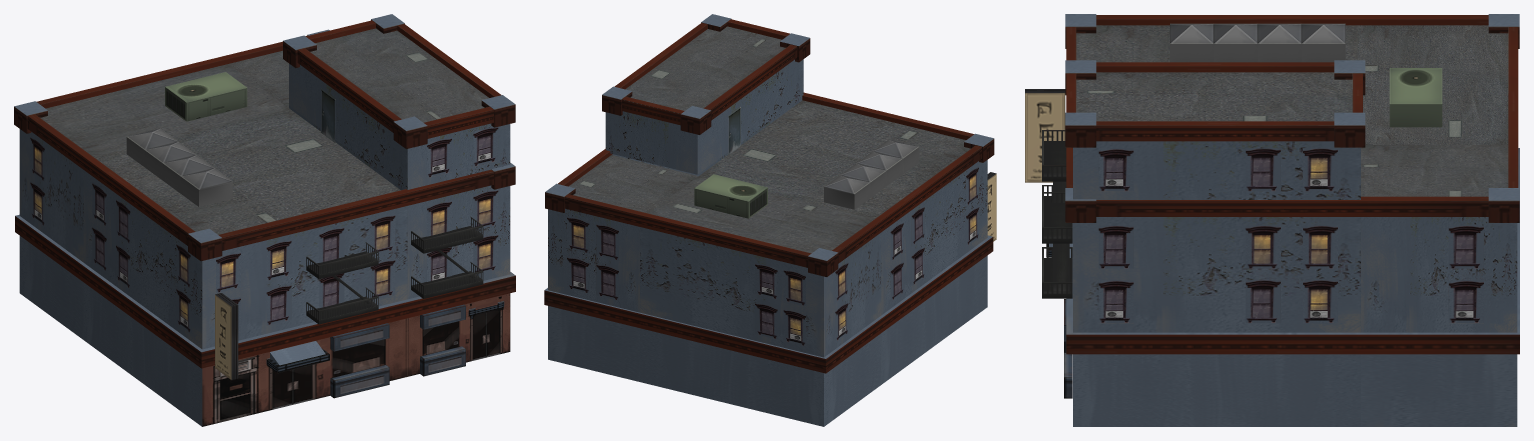
3 views of the same model, side by side, from view 1: azimuth 30°, elevation 25°; view 2: azimuth 150°, elevation 25°; view 3: azimuth 270°, elevation 25° (orthographic). The views are drawn at different scales.
Parts seen in each view (by area): view 1: Filler_Apartments2_FillerBuildings1_0.001; view 2: Filler_Apartments2_FillerBuildings1_0.001; view 3: Filler_Apartments2_FillerBuildings1_0.001.
Part boxes in pixels (x1=…): Filler_Apartments2_FillerBuildings1_0.001: x1=14, y1=14, x2=515, y2=426; Filler_Apartments2_FillerBuildings1_0.001: x1=544, y1=14, x2=996, y2=426; Filler_Apartments2_FillerBuildings1_0.001: x1=1025, y1=14, x2=1519, y2=426.
Size of the model in its own units: 9.22 by 6.96 by 10.3.
2 materials, 2 textured.
